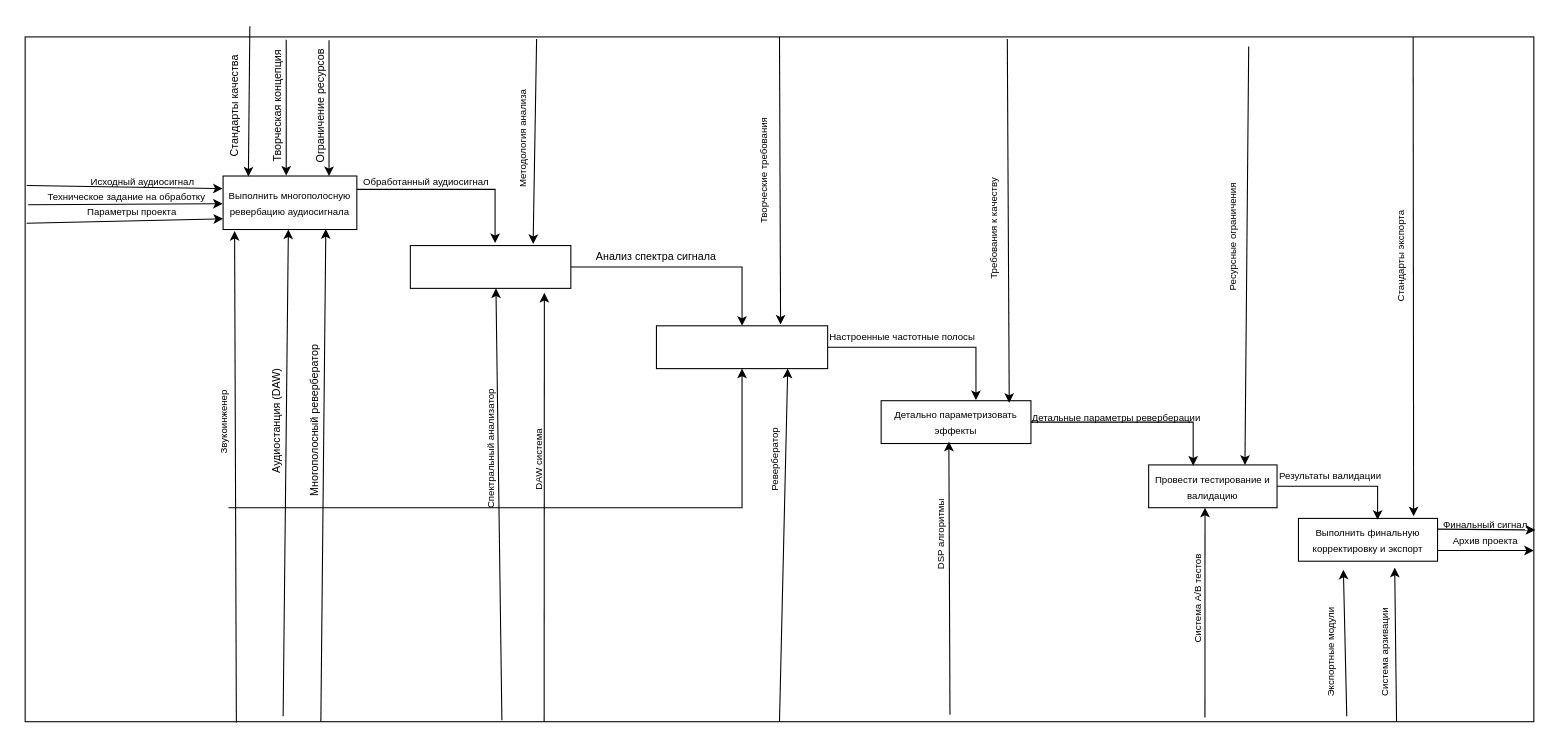
Some shapes in this 1562 by 750 pixel diagram are drawn without their labels. Each missing label, with the centre of its shape:
"Настроить многополосную конфигурацию" goes at point 741,347.
"Проанализировать и подготовить исходфный материал" goes at point 490,266.
